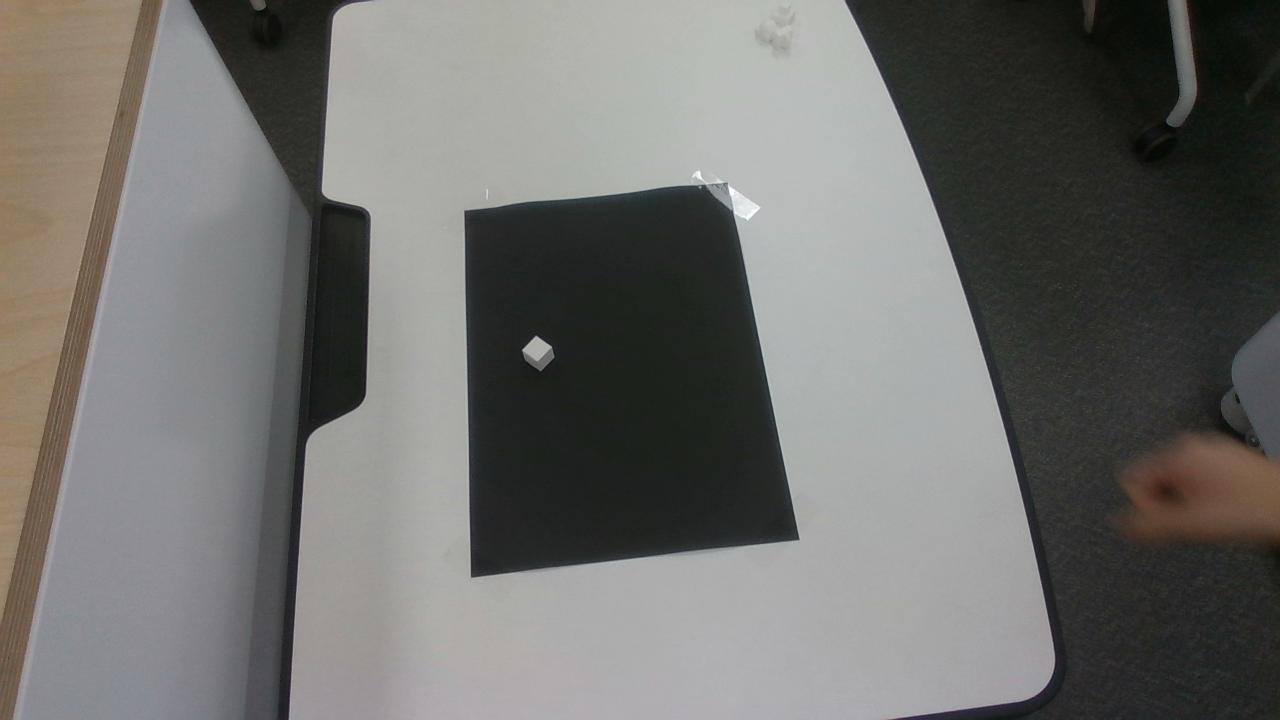cube: (522, 336, 553, 370)
